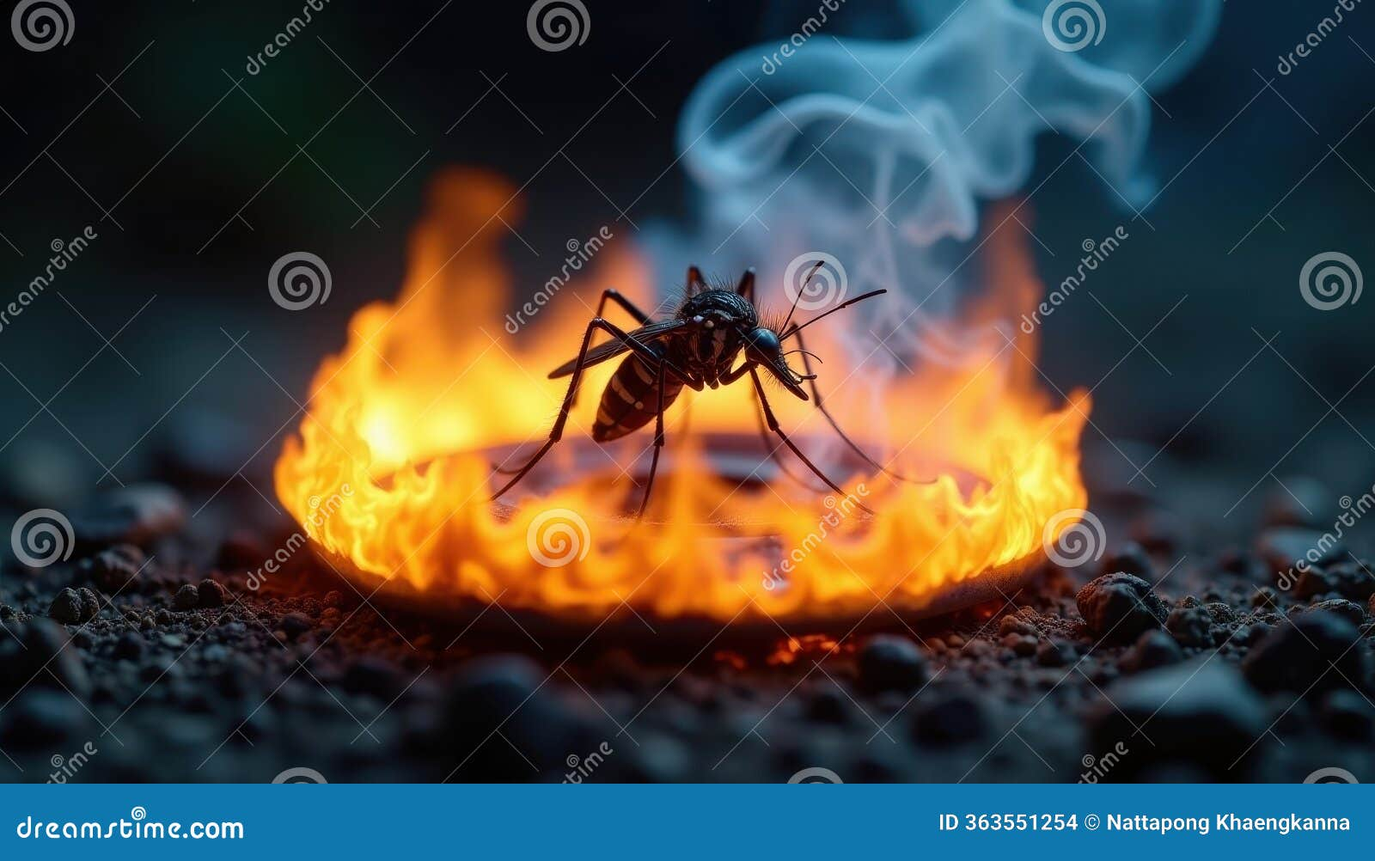Open-Flame-Hazard: (251, 140, 1119, 621)
